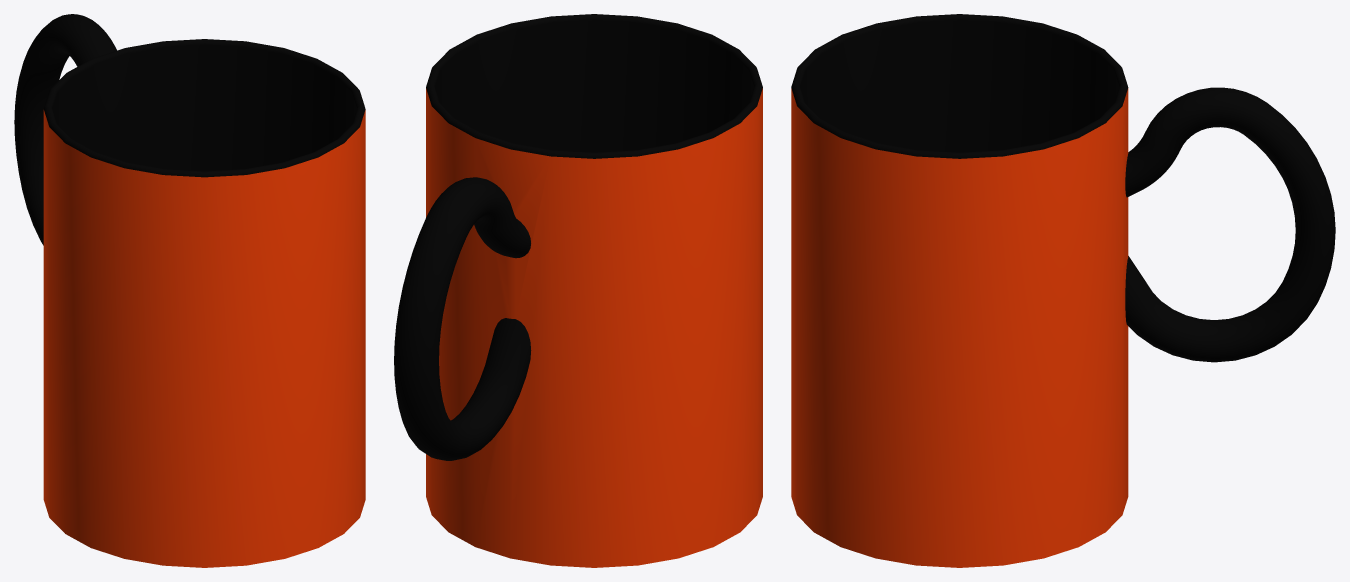
File: mug_02_origin_gt_7.dae
3 views of the same model, side by side, from view 1: azimuth 30°, elevation 25°; view 2: azimuth 150°, elevation 25°; view 3: azimuth 270°, elevation 25° (orthographic). The views are drawn at different scales.
Visible parts, largest first — view 1: SketchUp (×3); view 2: SketchUp (×3); view 3: SketchUp (×3).
Boxes of the visible parts, x1,y1,x2,y2 form: SketchUp (×3): (14,14,365,567); SketchUp (×3): (394,14,762,567); SketchUp (×3): (791,14,1335,567).
Size of the model in its own units: 4.26 by 6.87 by 5.75.
